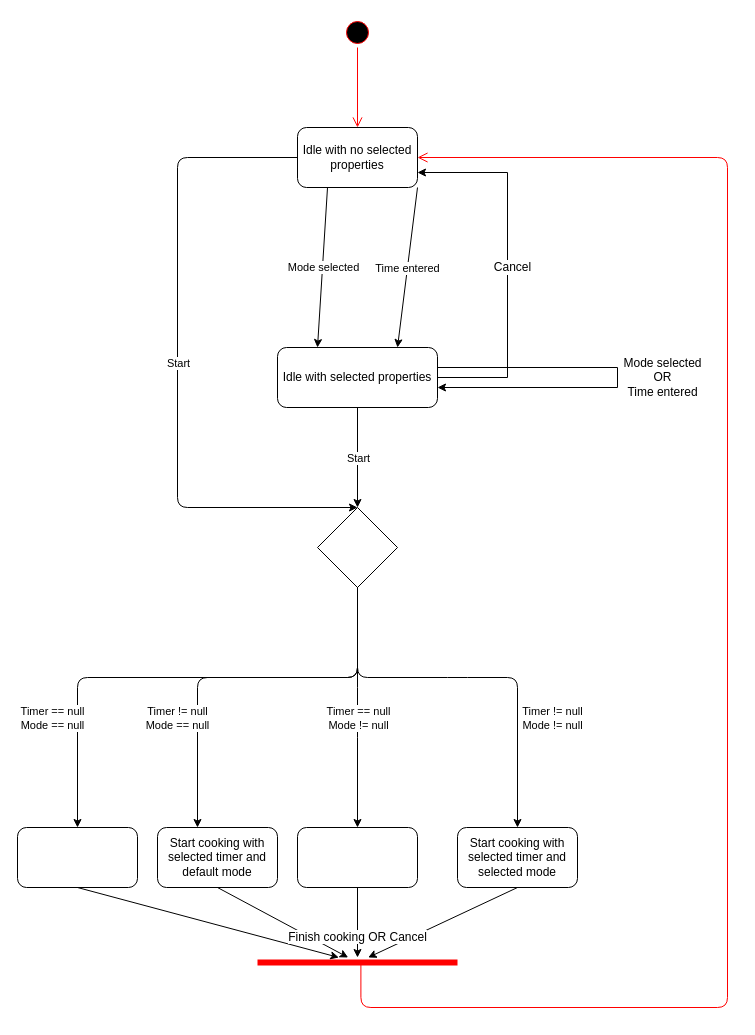
Some shapes in this 755 by 1035 pixel diagram are drawn without their labels. Each missing label, with the centre of its shape:
Start cooking with default timer and default mode: (77,857)
Start cooking with default timer and selected mode: (357,857)
